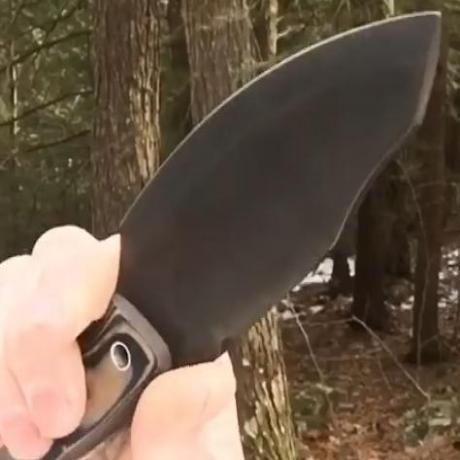weapon: (108, 9, 443, 375)
